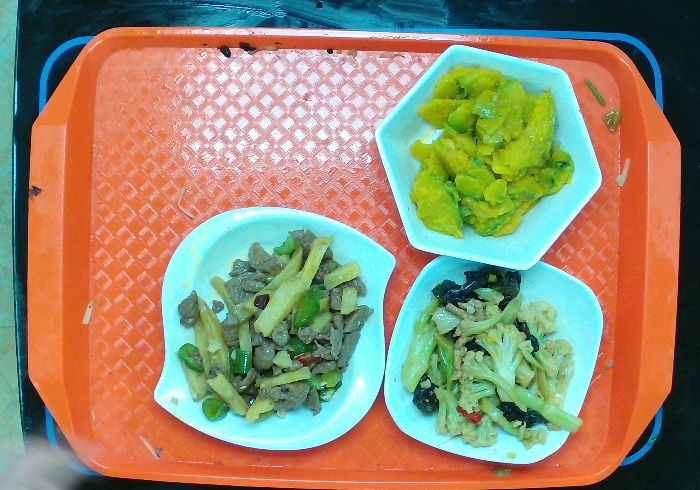RJxy-Liu_Jiao_Wan: (372, 38, 612, 279)
RJxy-Shuang_Jiao_Pan: (148, 198, 403, 453)
RJxy-Si_Fang_Wan: (380, 248, 609, 469)
